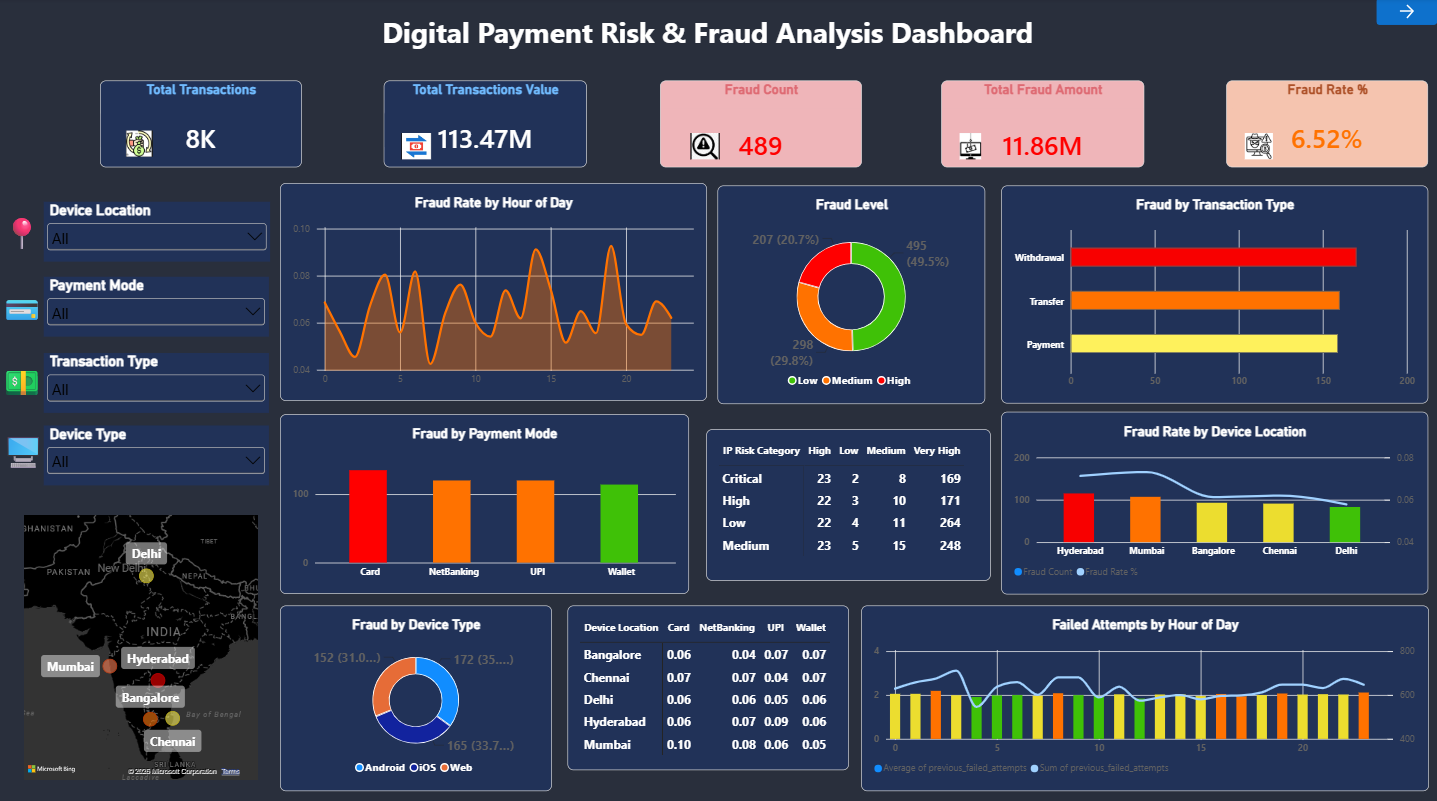

The dashboard page shown, as its layout file describes it:
{"tool":"powerbi","page":{"name":"Executive Overview","canvas":[1920,1080],"ordinal":0},"visuals":[{"type":"stackedAreaChart","title":"Fraud Rate by Hour of Day","fields":{"Category":["01_Transactions_Fact.transaction_hour"],"Y":["01_Transactions_Fact.Fraud Rate %"]},"box":[374.6,247.9,570,291.4],"z":0},{"type":"donutChart","title":"Fraud Level","fields":{"Category":["02_Risk_Scored.risk_level"],"Y":["CountNonNull(02_Risk_Scored.fraud_label)"]},"box":[959.3,249.8,357.4,291.8],"z":1000},{"type":"lineClusteredColumnComboChart","title":"Fraud Rate by Device Location","fields":{"Category":["01_Transactions_Fact.device_location"],"Y":["01_Transactions_Fact.Fraud Count"],"Y2":["01_Transactions_Fact.Fraud Rate %"]},"box":[1338,552,570,244],"z":2000},{"type":"slicer","fields":{"Values":["01_Transactions_Fact.device_location"]},"box":[58.3,271.7,302.7,80.2],"z":3000},{"type":"slicer","fields":{"Values":["01_Transactions_Fact.payment_mode"]},"box":[58.3,371.7,300.4,79.6],"z":4000},{"type":"slicer","fields":{"Values":["01_Transactions_Fact.transaction_type"]},"box":[58.3,475,300.4,79.6],"z":5000},{"type":"slicer","fields":{"Values":["01_Transactions_Fact.device_type"]},"box":[58.3,571.7,300.4,79.6],"z":6000},{"type":"columnChart","title":"Fraud by Payment Mode","fields":{"Category":["01_Transactions_Fact.payment_mode"],"Y":["Sum(01_Transactions_Fact.fraud_label)"]},"box":[374,556,546,240],"z":7000},{"type":"barChart","title":"Fraud by Transaction Type","fields":{"Category":["01_Transactions_Fact.transaction_type"],"Y":["Sum(01_Transactions_Fact.fraud_label)"]},"box":[1337.3,249.7,570,291.4],"z":8000},{"type":"donutChart","title":"Fraud by Device Type","fields":{"Category":["01_Transactions_Fact.device_type"],"Y":["01_Transactions_Fact.Fraud Count"]},"box":[373.9,811.6,362.9,248],"z":9000},{"type":"pivotTable","fields":{"Columns":["01_Transactions_Fact.payment_mode"],"Rows":["01_Transactions_Fact.device_location"],"Values":["01_Transactions_Fact.Fraud Rate %"]},"box":[758,812,376,220],"z":10000},{"type":"pivotTable","fields":{"Columns":["02_Risk_Scored.amount_category"],"Rows":["02_Risk_Scored.ip_risk_category"],"Values":["CountNonNull(02_Risk_Scored.risk_score)"]},"box":[944,576,380,202],"z":11000},{"type":"lineStackedColumnComboChart","title":"Failed Attempts by Hour of Day","fields":{"Category":["01_Transactions_Fact.transaction_hour"],"Y":["Avg(01_Transactions_Fact.previous_failed_attempts)"],"Y2":["Sum(01_Transactions_Fact.previous_failed_attempts)"]},"box":[1150,812,758,248],"z":12000},{"type":"map","fields":{"Category":["02_Risk_Scored.device_location"]},"box":[16,676,344,384],"z":13000},{"type":"cardVisual","title":"Total  Transactions Value","fields":{"Data":["Sum(01_Transactions_Fact.avg_transaction_amount)"]},"box":[512.1,110.4,271.4,115.8],"z":14000},{"type":"actionButton","box":[1838.6,0,81.4,36.2],"z":15000},{"type":"cardVisual","title":"Total Transactions","fields":{"Data":["01_Transactions_Fact.Total Transactions"]},"box":[133.9,110.4,269.6,115.8],"z":16000},{"type":"cardVisual","title":"Fraud Count","fields":{"Data":["01_Transactions_Fact.Fraud Count"]},"box":[881.3,110.4,269.6,115.8],"z":17000},{"type":"cardVisual","title":"Total Fraud Amount","fields":{"Data":["01_Transactions_Fact.Fraud Amount"]},"box":[1257.7,110.4,271.4,115.8],"z":18000},{"type":"cardVisual","title":"Fraud Rate %","fields":{"Data":["01_Transactions_Fact.Fraud Rate %"]},"box":[1637.7,110.4,269.6,115.8],"z":19000},{"type":"textbox","box":[359.3,20.1,1172.6,83.9],"z":20000},{"type":"textbox","box":[0,283.3,80,68.3],"z":21000},{"type":"textbox","box":[0,378.3,70,68.3],"z":22000},{"type":"textbox","box":[0,480,71.7,68.3],"z":23000},{"type":"textbox","box":[1.7,576.7,70,68.3],"z":24000},{"type":"image","box":[159.3,177.3,55.8,34.9],"z":25000},{"type":"image","box":[533.7,179.7,43.6,34.9],"z":26000},{"type":"image","box":[1657,179.7,50.6,34.9],"z":27000},{"type":"image","box":[915.7,179.7,54.1,34.9],"z":28000},{"type":"image","box":[1269.8,179.7,54.1,34.9],"z":29000}]}

Visuals, with their boxes in screenshot pixels (x1, y1, x2, y2), scaled from the page's 1920x1080 canvas onto the 1437x801 screenshot:
"Fraud Rate by Hour of Day" stackedAreaChart: 280, 184, 707, 400
"Fraud Level" donutChart: 718, 185, 985, 402
"Fraud Rate by Device Location" lineClusteredColumnComboChart: 1001, 409, 1428, 590
slicer - 01_Transactions_Fact.device_location: 44, 202, 270, 261
slicer - 01_Transactions_Fact.payment_mode: 44, 276, 268, 335
slicer - 01_Transactions_Fact.transaction_type: 44, 352, 268, 411
slicer - 01_Transactions_Fact.device_type: 44, 424, 268, 483
"Fraud by Payment Mode" columnChart: 280, 412, 689, 590
"Fraud by Transaction Type" barChart: 1001, 185, 1427, 401
"Fraud by Device Type" donutChart: 280, 602, 551, 786
pivotTable - 01_Transactions_Fact.payment_mode x 01_Transactions_Fact.device_location: 567, 602, 849, 765
pivotTable - 02_Risk_Scored.amount_category x 02_Risk_Scored.ip_risk_category: 707, 427, 991, 577
"Failed Attempts by Hour of Day" lineStackedColumnComboChart: 861, 602, 1428, 786
map - 02_Risk_Scored.device_location: 12, 501, 269, 786
"Total  Transactions Value" cardVisual: 383, 82, 586, 168
actionButton: 1376, 0, 1436, 27
"Total Transactions" cardVisual: 100, 82, 302, 168
"Fraud Count" cardVisual: 660, 82, 861, 168
"Total Fraud Amount" cardVisual: 941, 82, 1144, 168
"Fraud Rate %" cardVisual: 1226, 82, 1427, 168
textbox: 269, 15, 1147, 77
textbox: 0, 210, 60, 261
textbox: 0, 281, 52, 331
textbox: 0, 356, 54, 407
textbox: 1, 428, 54, 478
image: 119, 131, 161, 157
image: 399, 133, 432, 159
image: 1240, 133, 1278, 159
image: 685, 133, 726, 159
image: 950, 133, 991, 159
